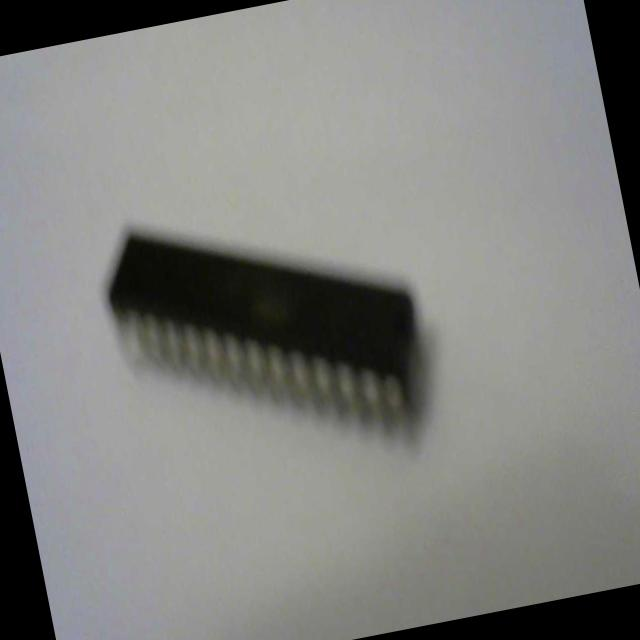atmega: (90, 168, 444, 498)
